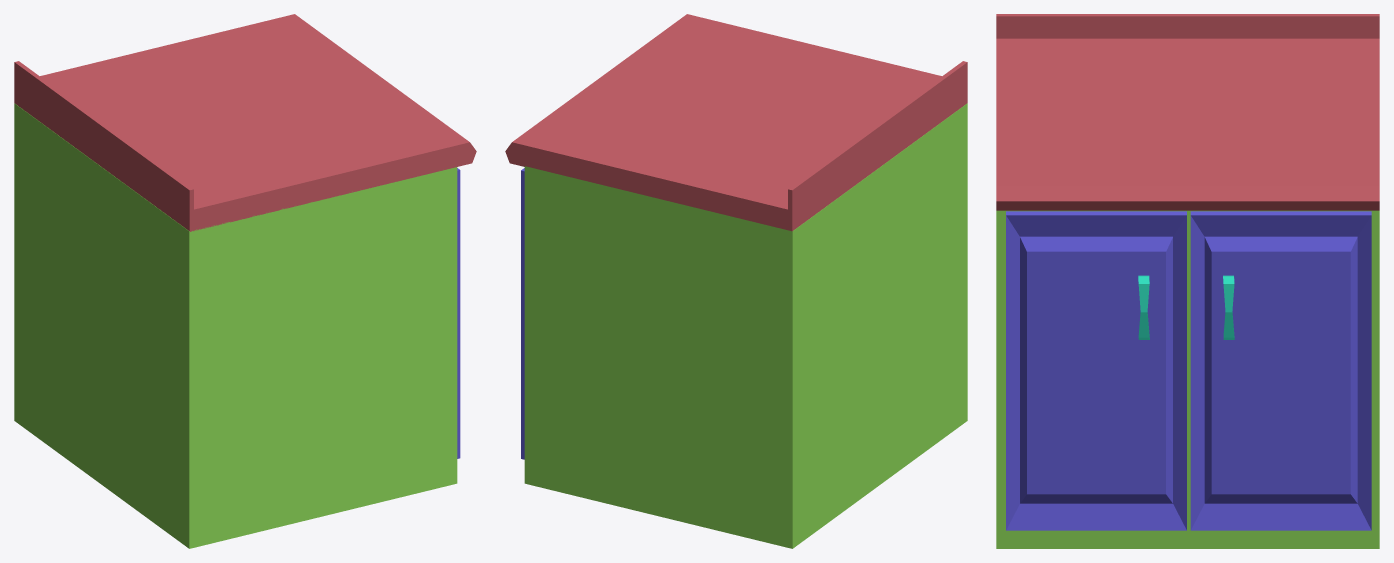
Rendered from kitchencounter1.fbx.
3 renders of one model, left to right at view 1: azimuth 30°, elevation 25°; view 2: azimuth 150°, elevation 25°; view 3: azimuth 270°, elevation 25°, orthographic. The views are drawn at different scales.
Parts seen in each view (by area): view 1: cupboard, countertop, margin, doors; view 2: cupboard, countertop, margin, doors; view 3: doors, countertop, cupboard, margin, handles.
Part boxes in pixels (bbox=[...]): cupboard: bbox=[14, 103, 457, 548]; countertop: bbox=[40, 14, 476, 230]; margin: bbox=[14, 61, 193, 231]; doors: bbox=[457, 168, 460, 458]; cupboard: bbox=[524, 103, 967, 548]; countertop: bbox=[505, 14, 941, 230]; margin: bbox=[788, 61, 967, 231]; doors: bbox=[521, 168, 524, 459]; doors: bbox=[1006, 211, 1371, 530]; countertop: bbox=[996, 38, 1379, 210]; cupboard: bbox=[996, 210, 1379, 548]; margin: bbox=[996, 14, 1379, 38]; handles: bbox=[1138, 275, 1234, 339].
Bounding box in the file's own units: 189 × 226 × 200.
